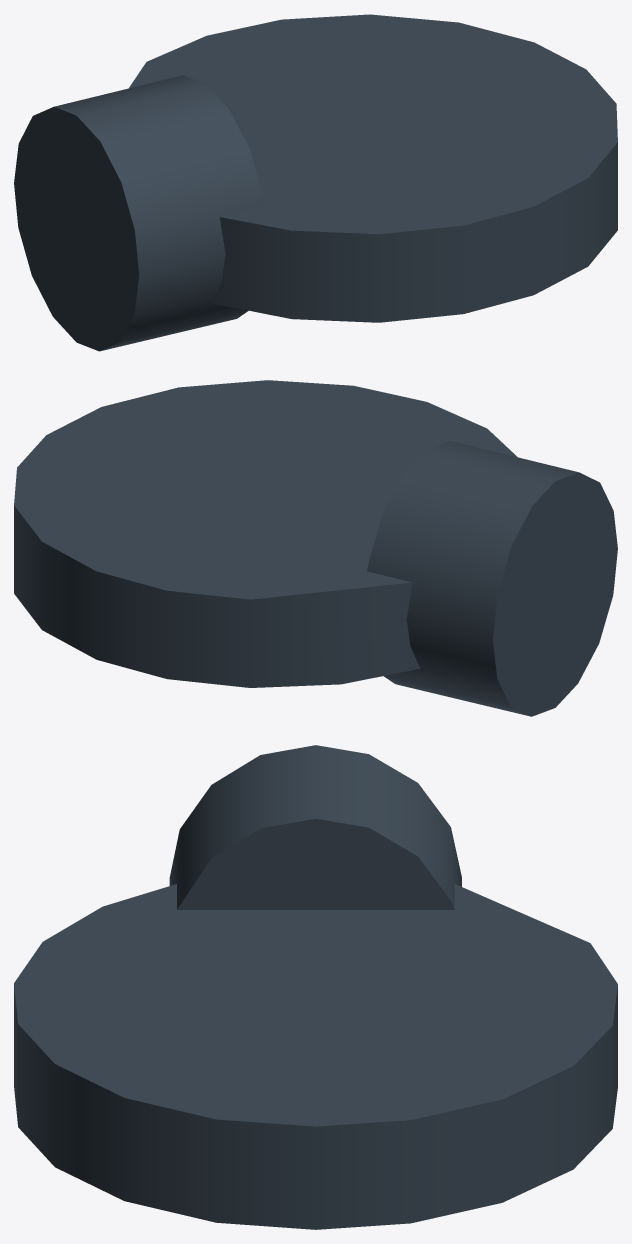
The model's file is fr_hipx.obj.
3 renders of one model, top to bottom at view 1: azimuth 30°, elevation 25°; view 2: azimuth 150°, elevation 25°; view 3: azimuth 270°, elevation 25°, orthographic. The views are drawn at different scales.
Visible parts, largest first — view 1: Mesh_mesh-a4987750-0333-4dd9-861d-dcc07e5c54d9; view 2: Mesh_mesh-a4987750-0333-4dd9-861d-dcc07e5c54d9; view 3: Mesh_mesh-a4987750-0333-4dd9-861d-dcc07e5c54d9.
Part boxes in pixels (x1,y1,x2,y2): Mesh_mesh-a4987750-0333-4dd9-861d-dcc07e5c54d9: (14, 14, 617, 351); Mesh_mesh-a4987750-0333-4dd9-861d-dcc07e5c54d9: (14, 380, 617, 716); Mesh_mesh-a4987750-0333-4dd9-861d-dcc07e5c54d9: (14, 745, 617, 1229).
Size of the model in its own units: 0.1057 by 0.045 by 0.093.
